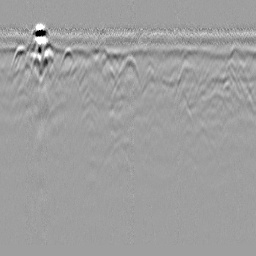cavity: (116, 50, 141, 83)
